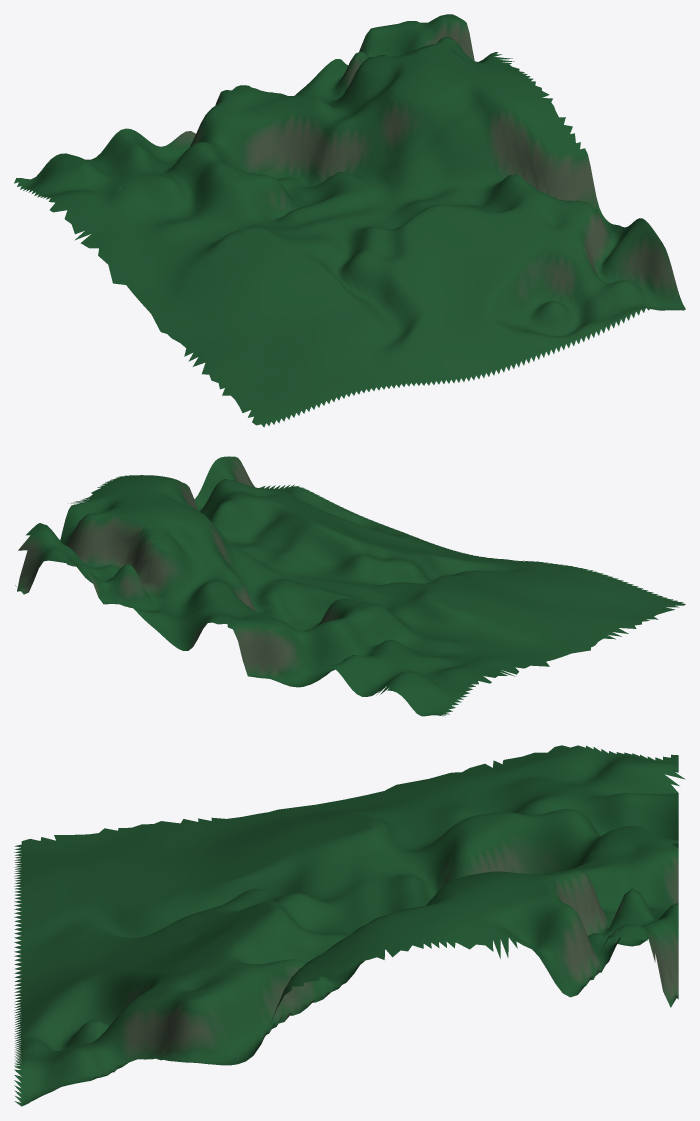
The model's file is payo_land_x1_y4.glb.
3 views of the same model, one above another, from view 1: azimuth 30°, elevation 25°; view 2: azimuth 150°, elevation 25°; view 3: azimuth 270°, elevation 25° (orthographic). The views are drawn at different scales.
Visible parts, largest first — view 1: payo_land_x1_y4; view 2: payo_land_x1_y4; view 3: payo_land_x1_y4.
Part boxes in pixels (left/top/right/bottom): payo_land_x1_y4: left=14, top=14, right=685, bottom=427; payo_land_x1_y4: left=15, top=456, right=685, bottom=716; payo_land_x1_y4: left=14, top=745, right=685, bottom=1106.
Bounding box in the file's own units: 268 × 85.94 × 261.
